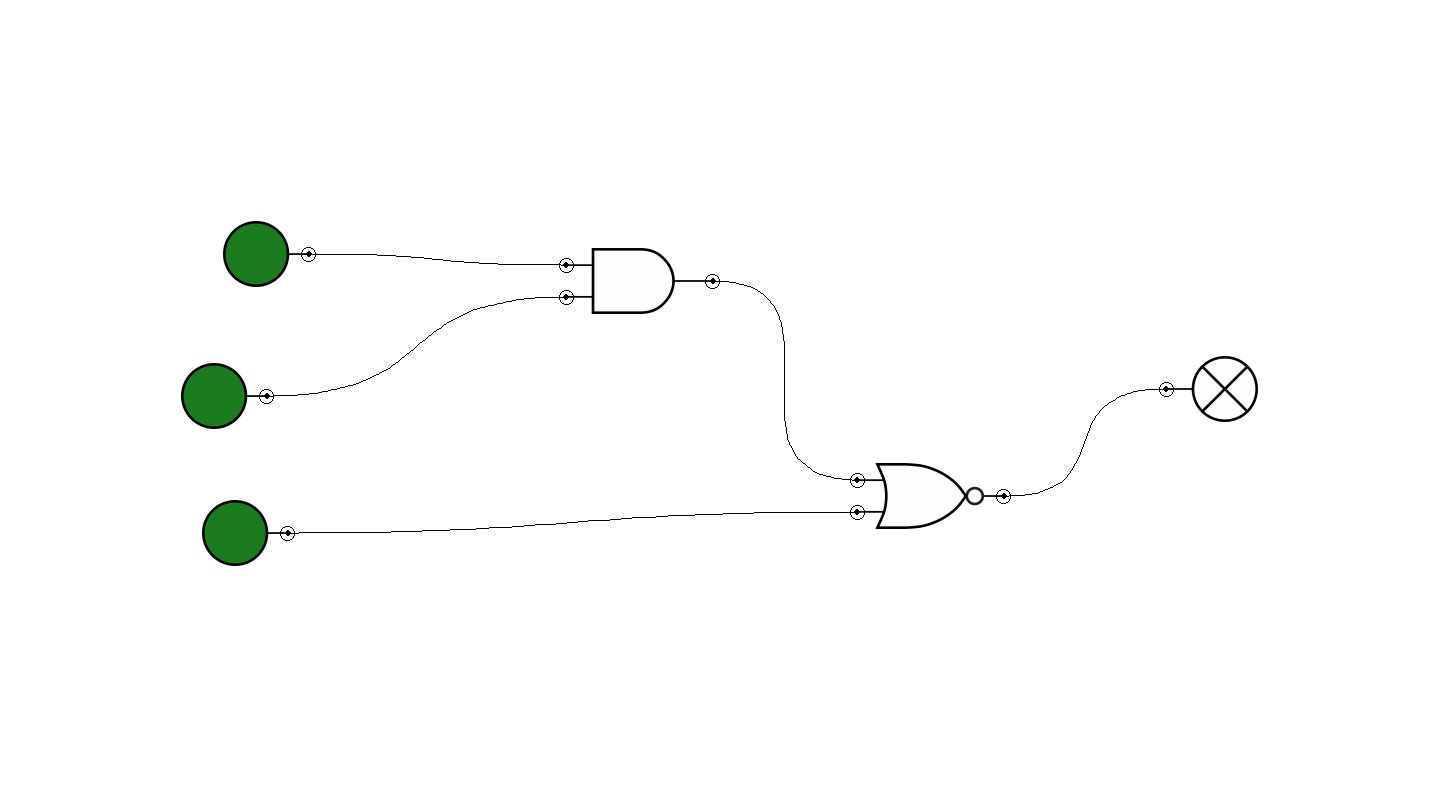and: (559, 248, 720, 314)
bulb: (1159, 356, 1258, 422)
nor: (850, 463, 1011, 529)
switch_True: (202, 500, 295, 566), (223, 221, 316, 287), (181, 363, 274, 429)
